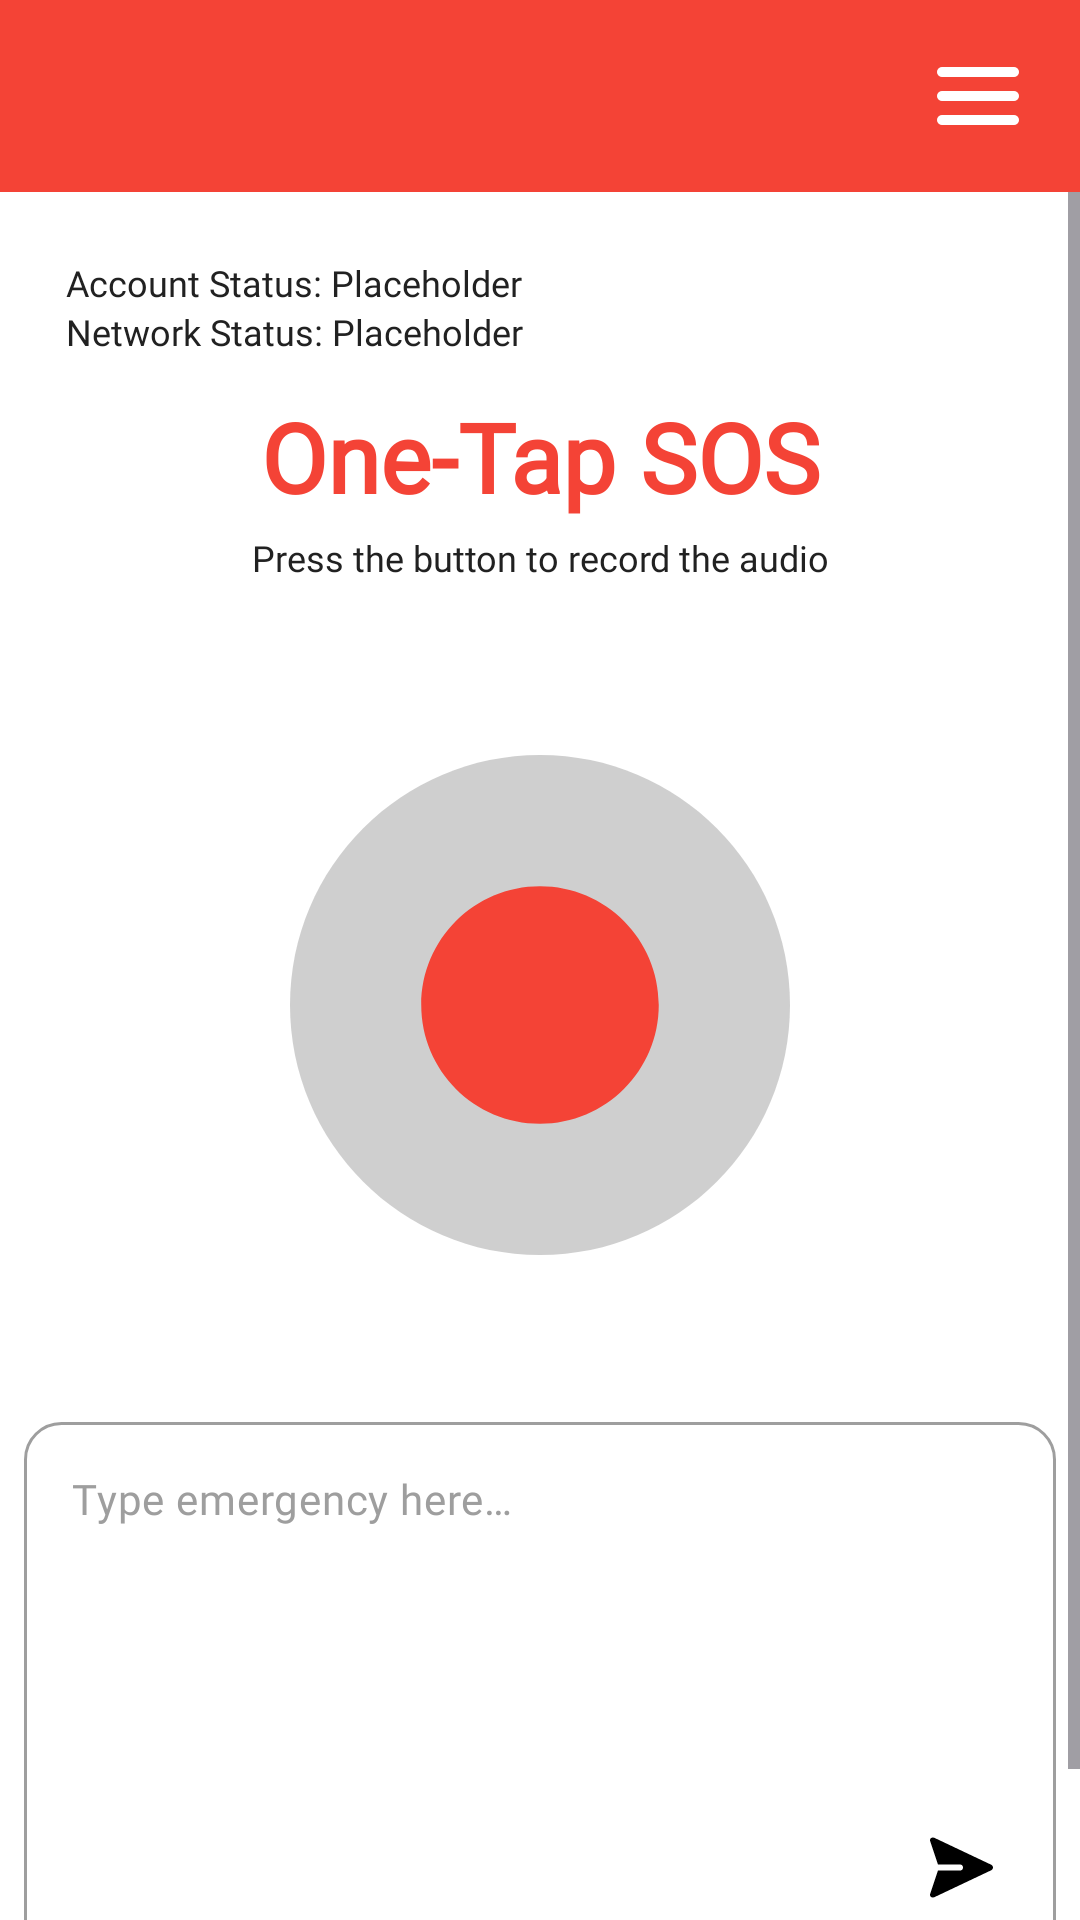

Icons on this 1080w x 1920h Android screen, each with its box as (x1, y1, x2, y2):
menu: (937, 67, 1019, 125)
